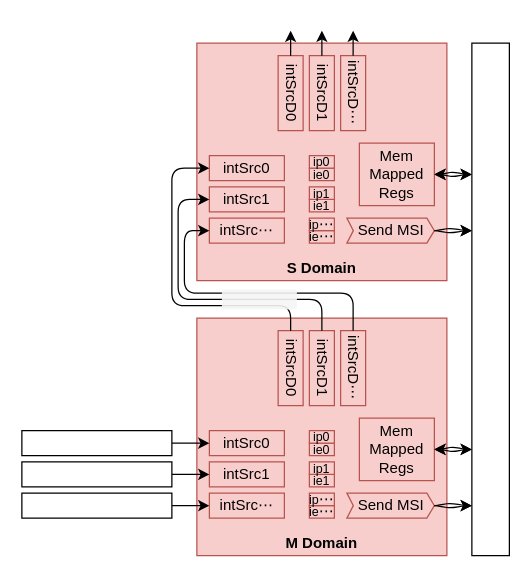
Some shapes in this 531 by 578 pixel diagram are drawn without their labels. Each missing label, with the box of its shape:
Bus: (471, 42, 509, 556)
delegation: (221, 289, 296, 309)
Wired Device 0: (21, 429, 172, 456)
Wired Device 1: (21, 461, 172, 487)
Wired Device ⋯: (21, 492, 172, 518)
